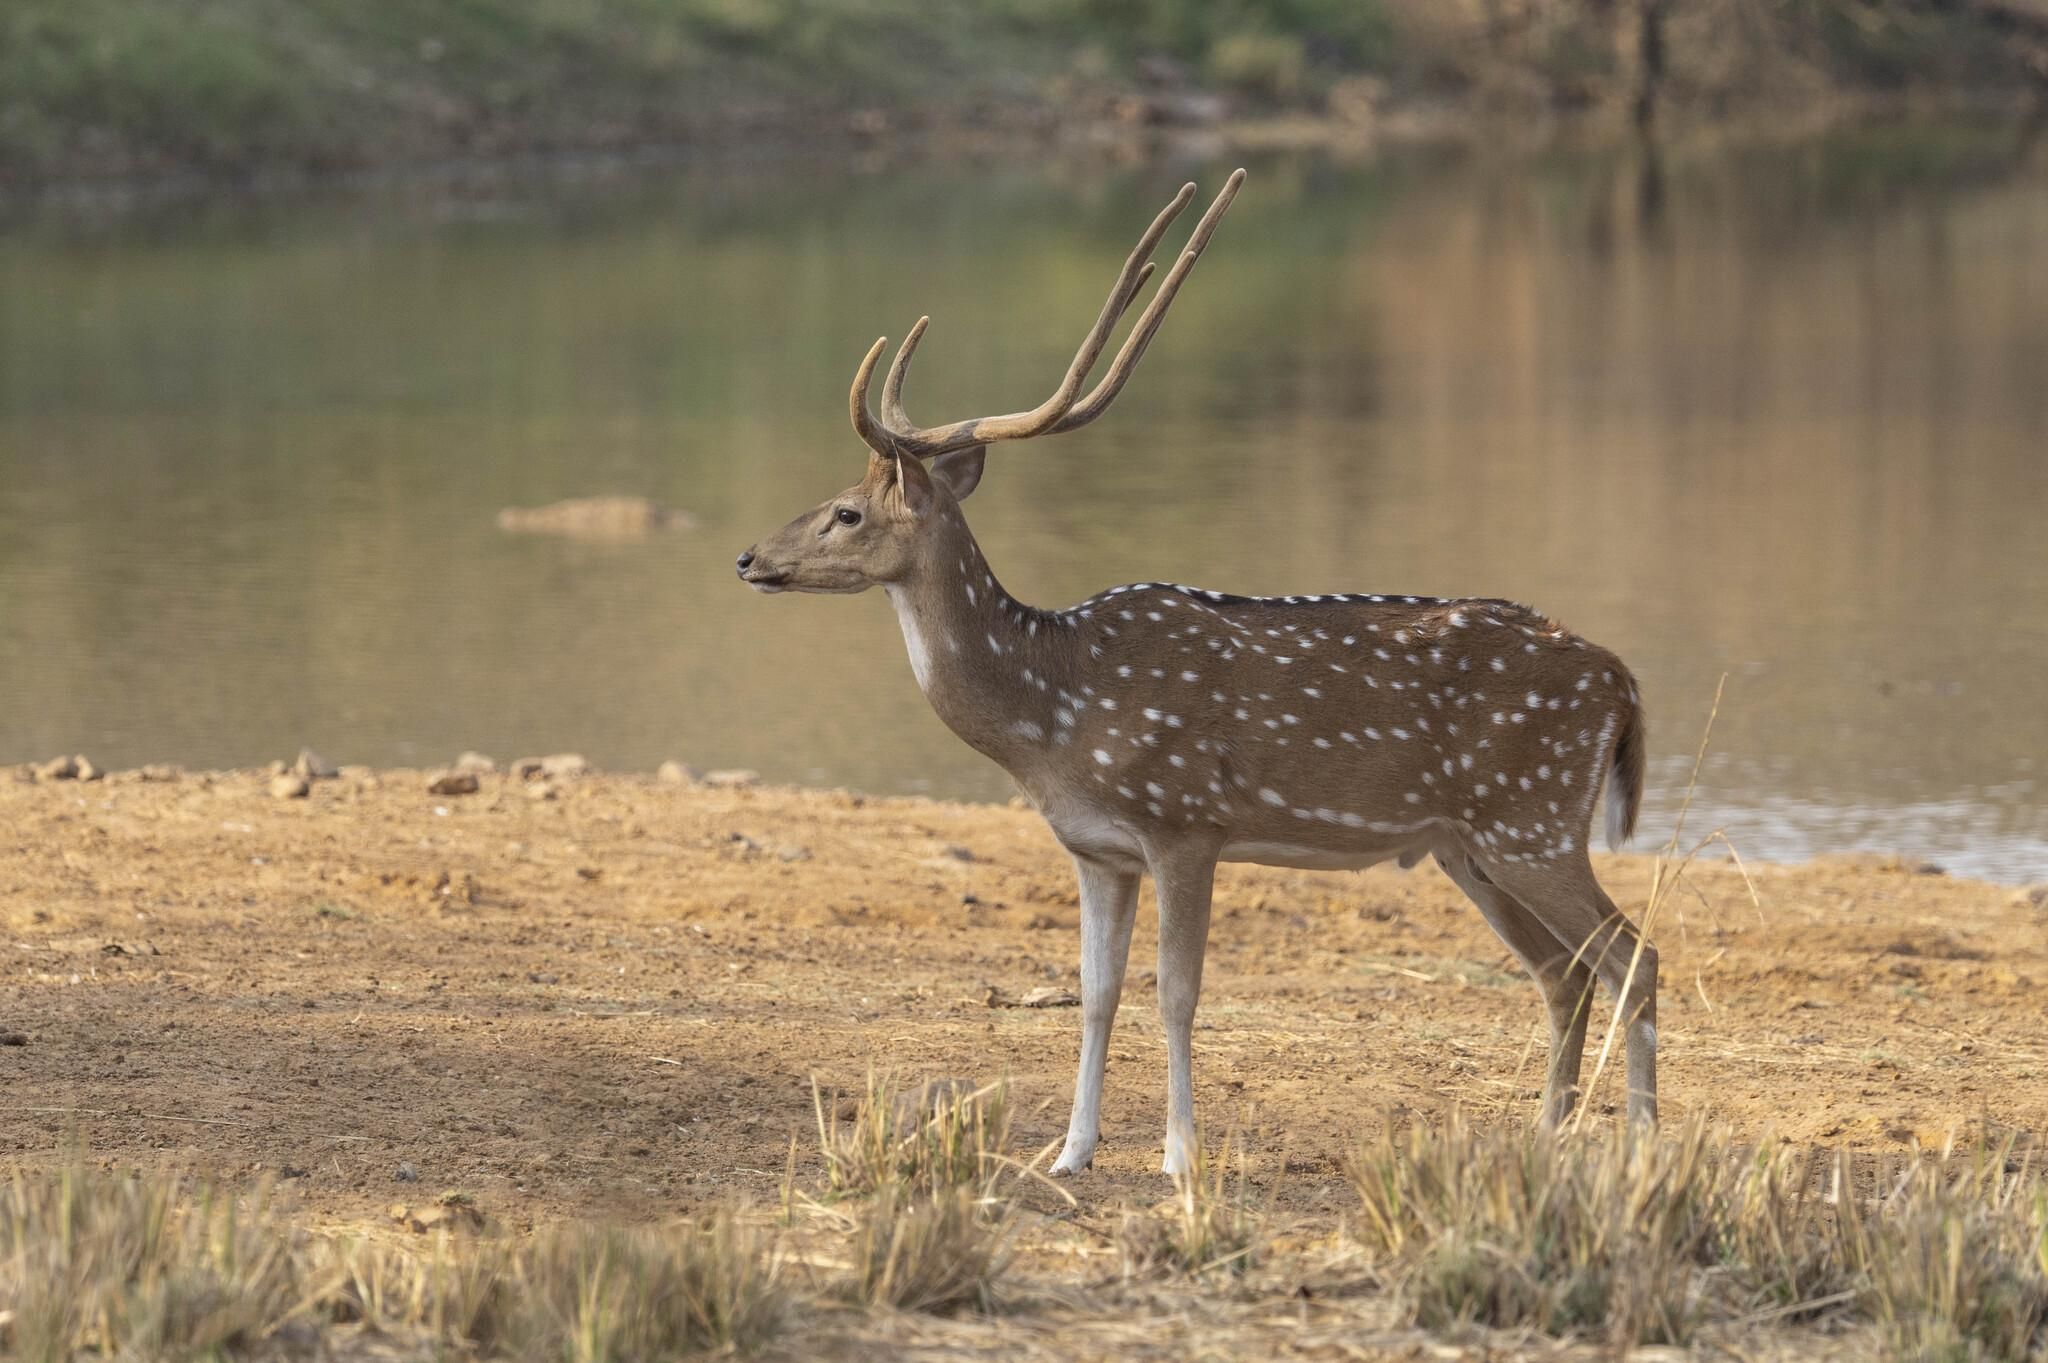Deer: (736, 170, 1656, 1174)
